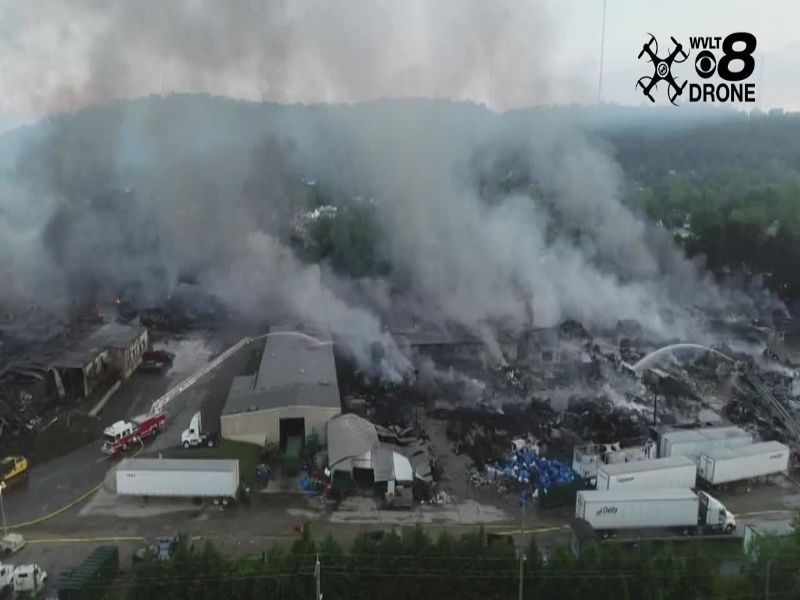smoke: (5, 1, 657, 334)
